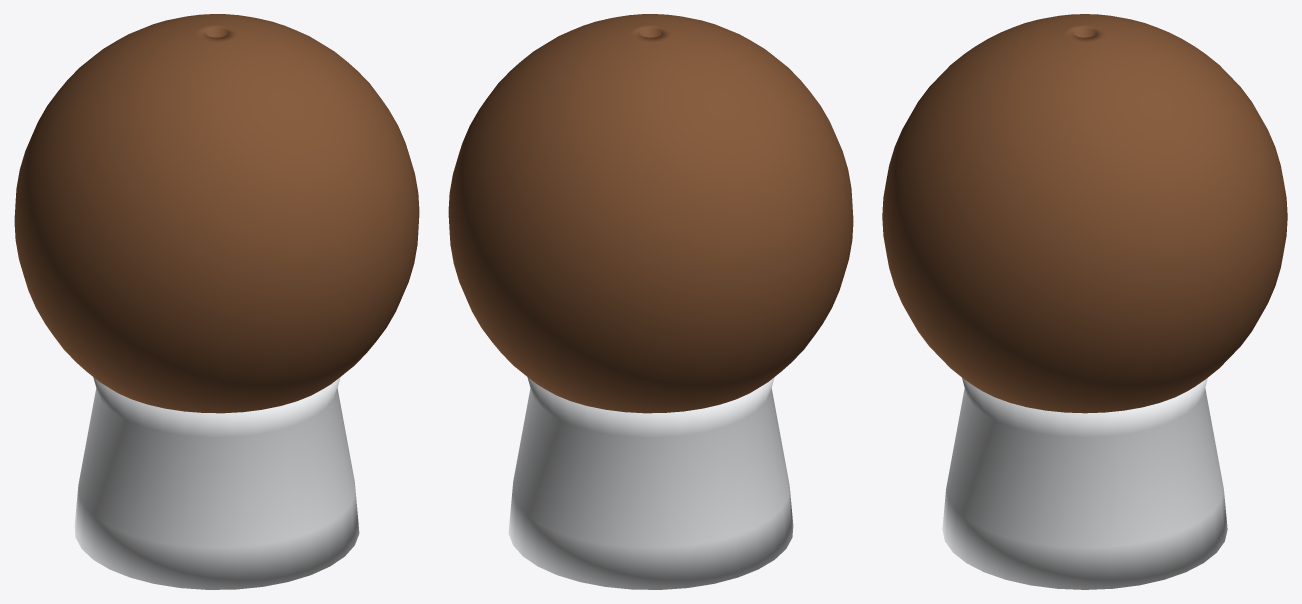
Rendered from GK02_wooden_ball_knob.glb.
3 renders of one model, left to right at view 1: azimuth 30°, elevation 25°; view 2: azimuth 150°, elevation 25°; view 3: azimuth 270°, elevation 25°, orthographic.
Parts seen in each view (by area): view 1: MOD_NA_GK02_knob, MOD_NA_GK02_collar; view 2: MOD_NA_GK02_knob, MOD_NA_GK02_collar; view 3: MOD_NA_GK02_knob, MOD_NA_GK02_collar.
Boxes of the visible parts, x1=… form: MOD_NA_GK02_knob: x1=14, y1=14, x2=419, y2=413; MOD_NA_GK02_collar: x1=74, y1=377, x2=359, y2=589; MOD_NA_GK02_knob: x1=448, y1=14, x2=853, y2=413; MOD_NA_GK02_collar: x1=508, y1=377, x2=793, y2=589; MOD_NA_GK02_knob: x1=882, y1=14, x2=1287, y2=413; MOD_NA_GK02_collar: x1=942, y1=378, x2=1227, y2=589.
Size of the model in its own units: 0.054 by 0.073 by 0.054.
